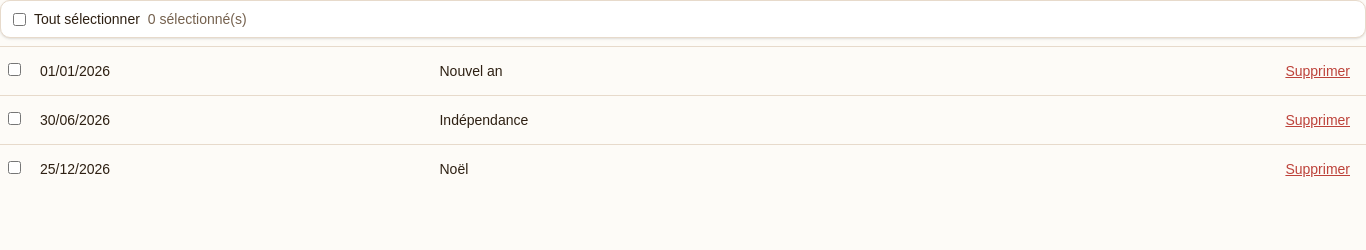
it: JoursFeriesListe › un refus du serveur est affiché
The image size is (1366, 250).
Click the checkbox named "Sélectionner le férié Nouvel an du 01/01/2026" at (14, 70), box [8,63,21,76]
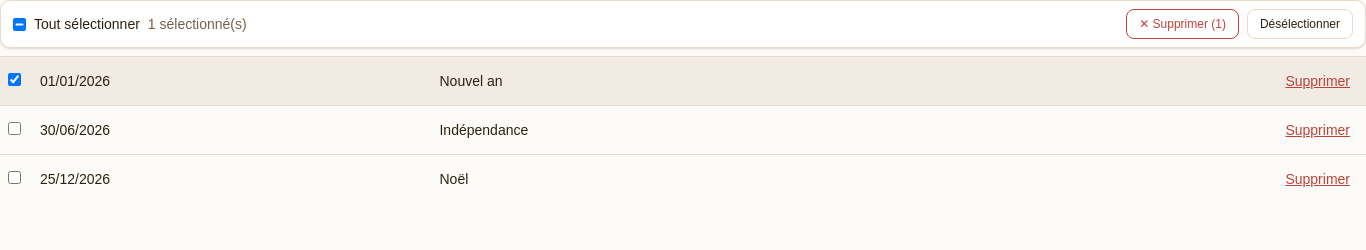
Click the button "✕ Supprimer (1)" at (1183, 24), box [1126,9,1239,39]
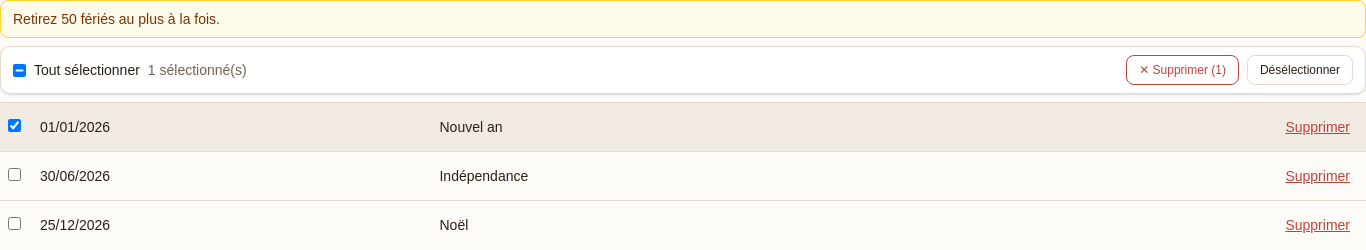
Check: the message "Retirez 50 fériés au plus à la fois." is shown, box [0,0,1365,38]
